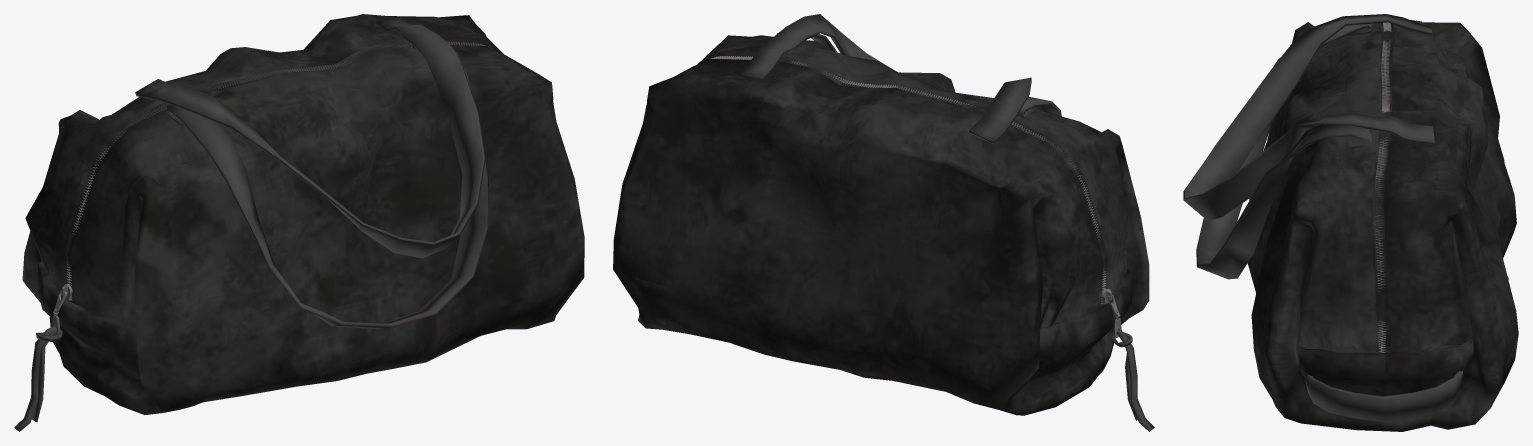
The model's file is hvbag_small_bag002.glb.
The picture shows the model from 3 angles, left to right: view 1: azimuth 30°, elevation 25°; view 2: azimuth 150°, elevation 25°; view 3: azimuth 270°, elevation 25°; orthographic projection. The views are drawn at different scales.
Parts seen in each view (by area): view 1: BP_small_bag002; view 2: BP_small_bag002; view 3: BP_small_bag002.
Part boxes in pixels (x1=…): BP_small_bag002: x1=14, y1=14, x2=584, y2=431; BP_small_bag002: x1=613, y1=14, x2=1154, y2=431; BP_small_bag002: x1=1183, y1=14, x2=1518, y2=431.
Bounding box in the file's own units: 0.5898 × 0.3227 × 0.3397.
3 materials, 2 textured.
